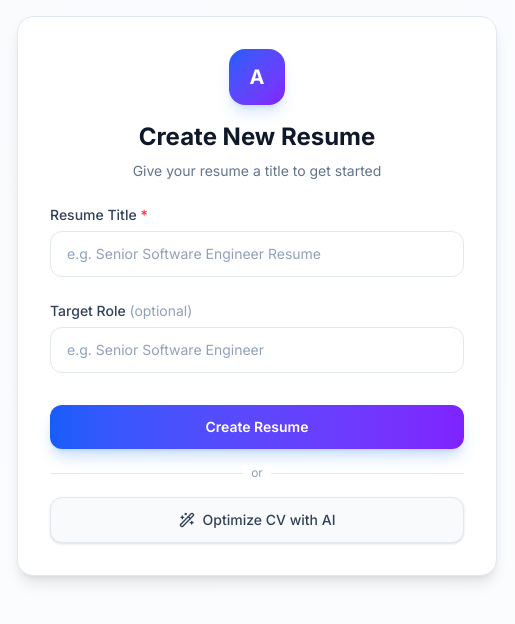
Test case: Create resume form — validation › clears field error when user types
Click the button "Create Resume" at point(257, 427), box [50,405,464,449]
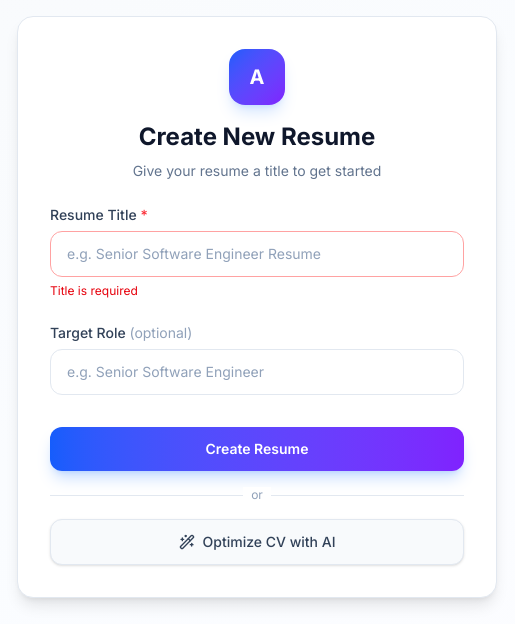
Expected: the text "Title is required" is shown, [50,283,138,298]
Type "A" into the field labelled "Resume Title *" at point(257, 254), box [50,231,464,277]
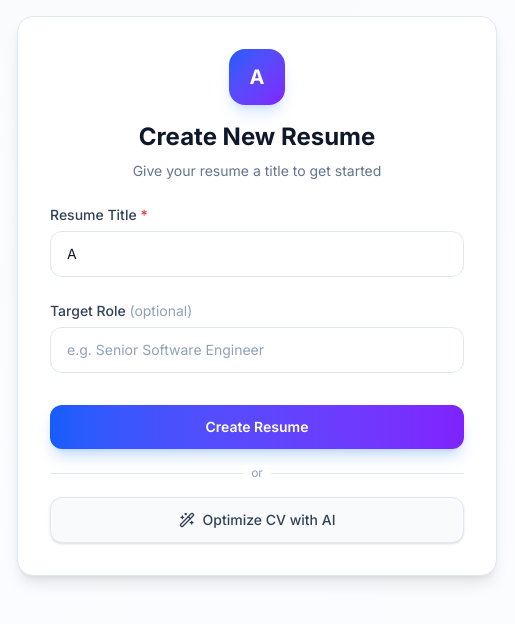
Expected: the text "Title is required" is gone
